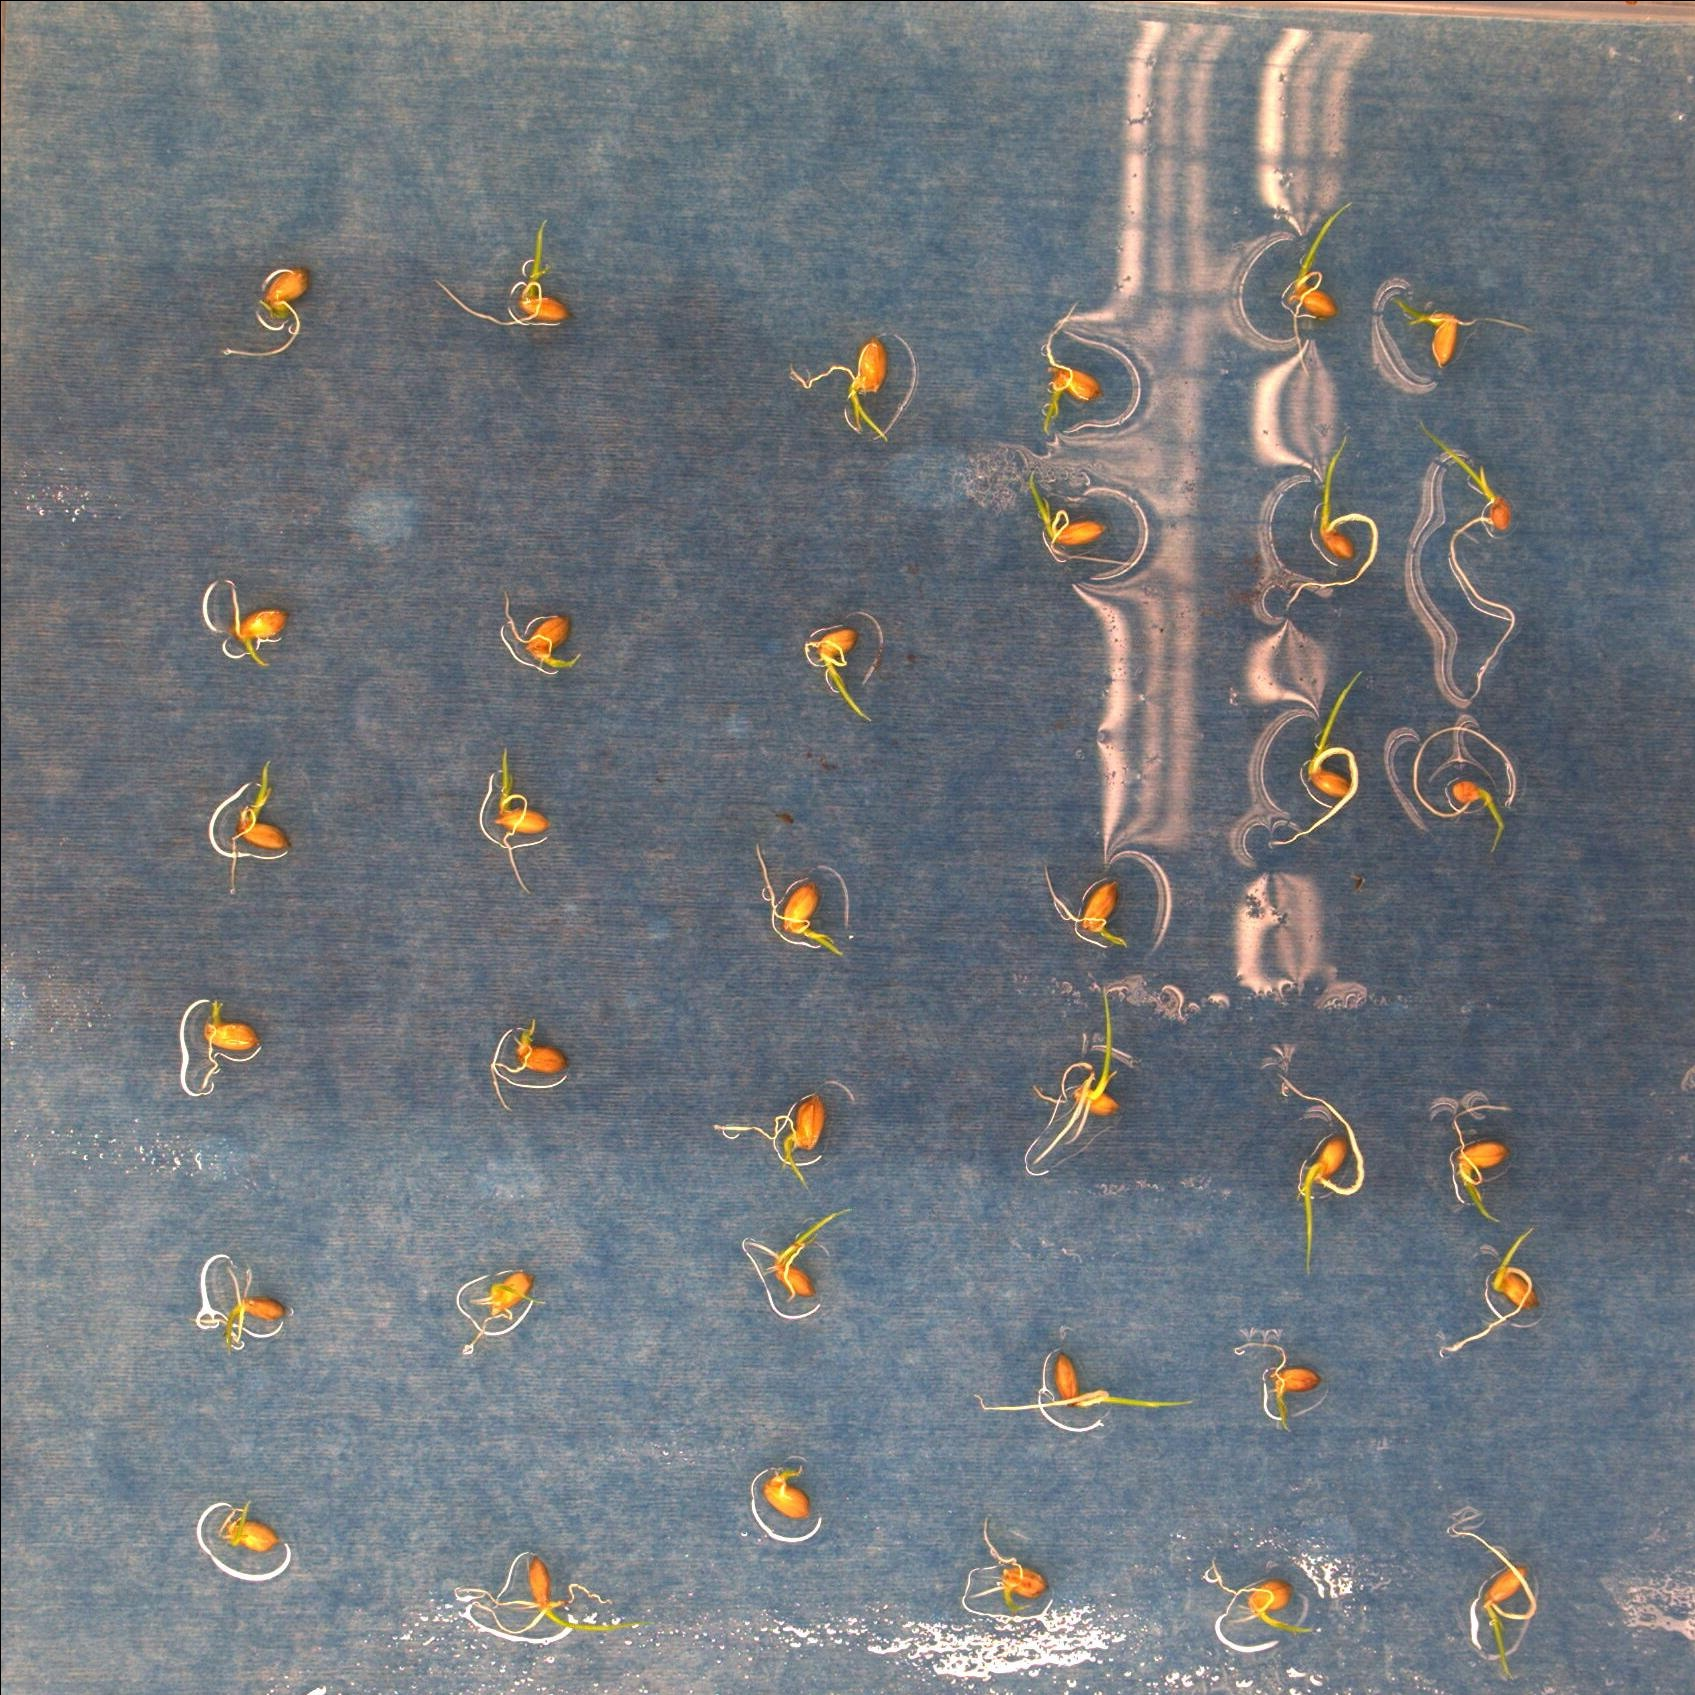not sprout: (757, 1465, 813, 1523)
sprout: (1420, 407, 1518, 706), (449, 1555, 674, 1639), (1277, 1069, 1364, 1284), (1281, 425, 1378, 612), (433, 213, 577, 332), (1031, 989, 1121, 1170), (1450, 1509, 1543, 1679), (1439, 1225, 1548, 1364), (1273, 677, 1357, 846), (970, 1357, 1206, 1416), (733, 1209, 855, 1319), (1394, 281, 1535, 369), (712, 1094, 827, 1197), (792, 334, 899, 442), (1288, 200, 1357, 369), (1034, 473, 1141, 579), (756, 837, 843, 961), (1203, 1551, 1319, 1642), (194, 1262, 289, 1363), (487, 742, 549, 893), (1038, 303, 1105, 438), (1042, 855, 1128, 958), (225, 757, 289, 894), (1439, 1102, 1509, 1226), (1236, 1338, 1319, 1437), (967, 1518, 1052, 1613), (501, 579, 584, 674), (486, 1014, 568, 1108), (461, 1265, 546, 1355), (225, 270, 303, 359), (806, 626, 872, 725), (199, 993, 258, 1093), (225, 574, 286, 667), (1450, 779, 1506, 846), (213, 1499, 281, 1551)
